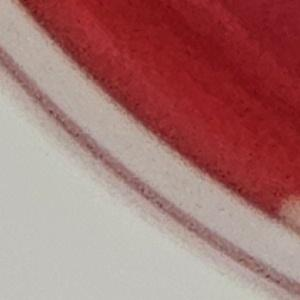colony: (262, 186, 300, 239)
